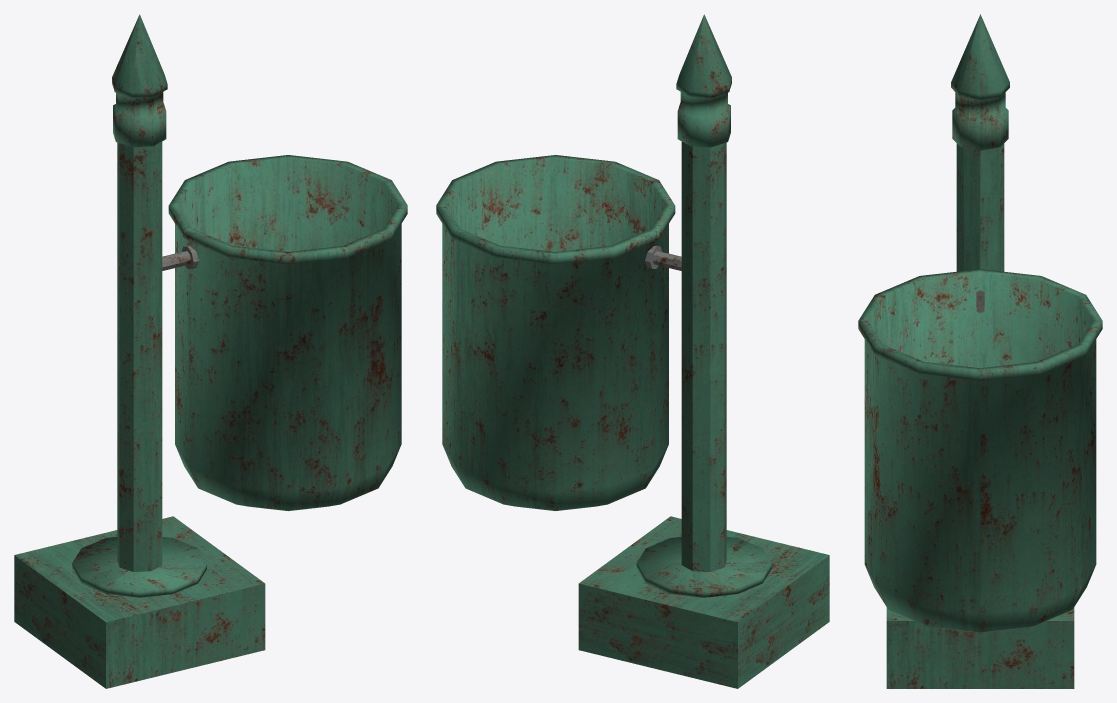
Rendered from urn_post_green_lod1_web.glb.
The picture shows the model from 3 angles, left to right: view 1: azimuth 30°, elevation 25°; view 2: azimuth 150°, elevation 25°; view 3: azimuth 270°, elevation 25°; orthographic projection. The views are drawn at different scales.
Parts seen in each view (by area): view 1: Urn_BinMesh, UrnPost_green_Mesh; view 2: Urn_BinMesh, UrnPost_green_Mesh; view 3: Urn_BinMesh, UrnPost_green_Mesh.
Part boxes in pixels (x1,y1,x2,y2): Urn_BinMesh: (168,155,407,511); UrnPost_green_Mesh: (14,14,265,688); Urn_BinMesh: (436,155,675,511); UrnPost_green_Mesh: (578,14,829,688); Urn_BinMesh: (858,269,1102,632); UrnPost_green_Mesh: (886,14,1074,688).
Bounding box in the file's own units: 0.625 × 1.12 × 0.39.
Materials: 2 (2 with a texture image).
